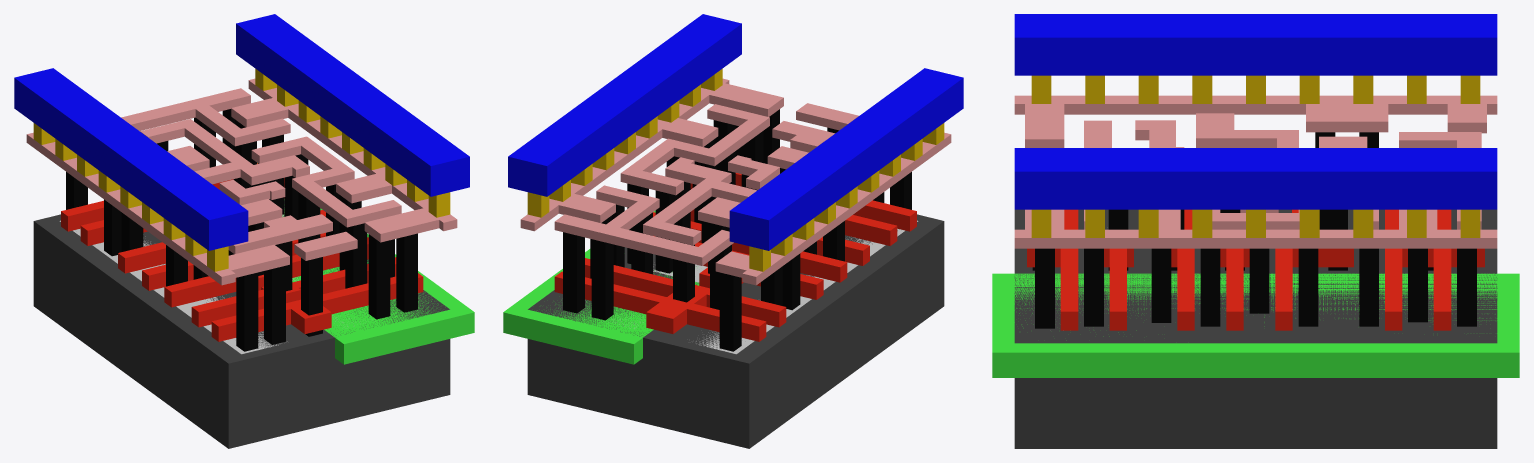
Rendered from sky130_fd_sc_hd__a32o_2.obj.
3 views of the same model, side by side, from view 1: azimuth 30°, elevation 25°; view 2: azimuth 150°, elevation 25°; view 3: azimuth 270°, elevation 25° (orthographic). The views are drawn at different scales.
Parts seen in each view (by area): view 1: subs, metal1, li, licon, poly, nwell, mcon, diff; view 2: subs, metal1, li, licon, poly, nwell, mcon, diff; view 3: metal1, subs, li, nwell, licon, poly, mcon.
Part boxes in pixels (x1,y1,x2,y2): subs: [33, 198, 450, 448]; metal1: [14, 14, 469, 250]; li: [26, 78, 457, 285]; licon: [66, 109, 417, 351]; poly: [61, 163, 423, 341]; nwell: [257, 163, 474, 364]; mcon: [33, 68, 450, 271]; diff: [59, 220, 287, 354]; subs: [527, 214, 944, 448]; metal1: [508, 14, 963, 250]; li: [520, 78, 951, 285]; licon: [563, 109, 911, 351]; poly: [554, 173, 916, 341]; nwell: [503, 210, 699, 364]; mcon: [527, 68, 944, 271]; diff: [696, 220, 918, 354]; metal1: [1014, 14, 1497, 209]; subs: [1014, 209, 1497, 448]; li: [1014, 95, 1497, 248]; nwell: [992, 273, 1519, 377]; licon: [1032, 132, 1476, 328]; poly: [1027, 209, 1484, 330]; mcon: [1031, 75, 1480, 237].
Size of the model in its own units: 3.2 by 2.74 by 4.52.
